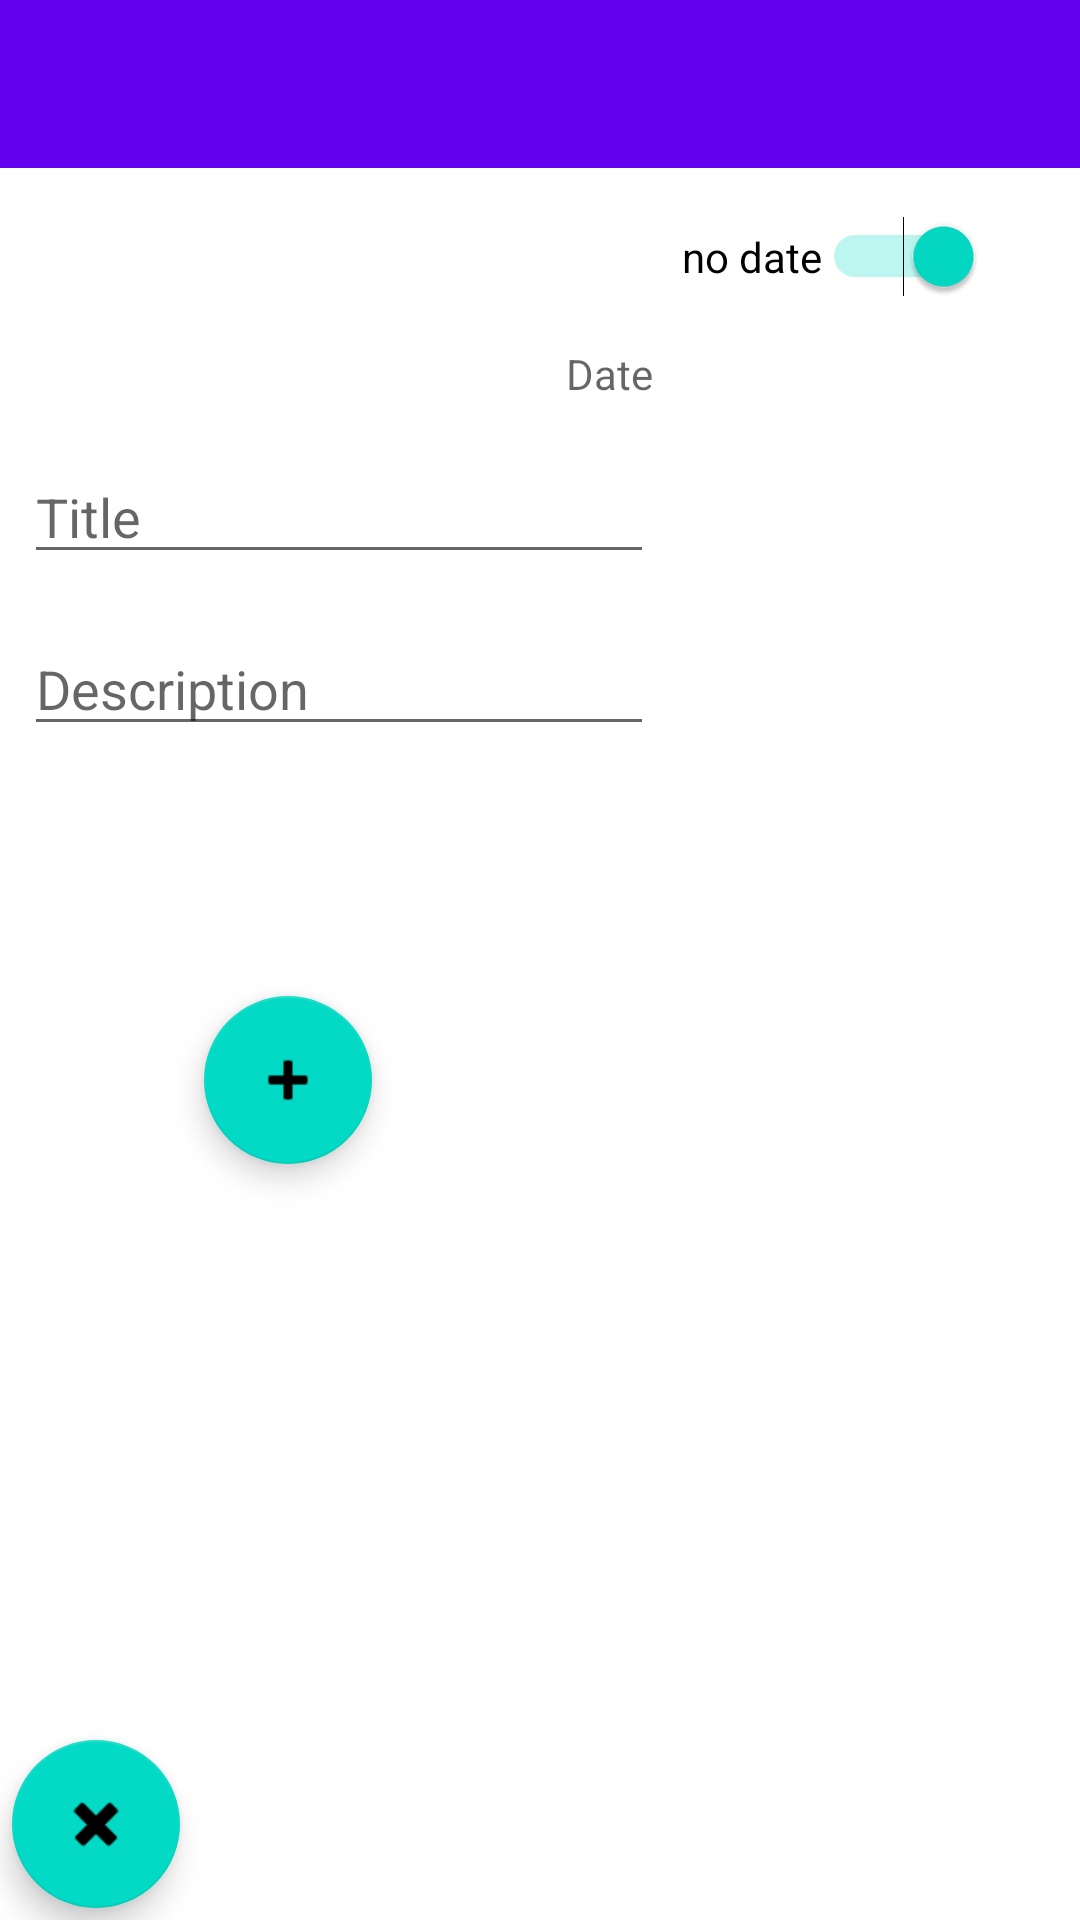

Screen size 1080×1920. Icon name, then its center in pixels as [x,y]:
add: [288,1080]
delete: [96,1824]
